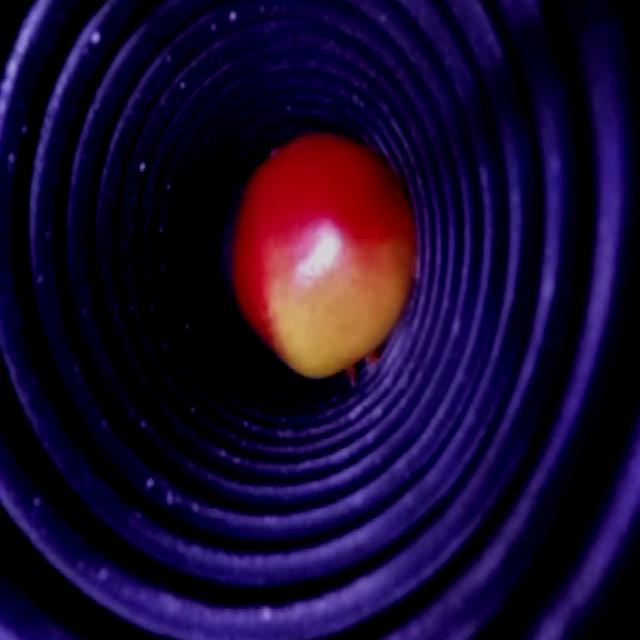obstacles: (235, 128, 419, 380)
